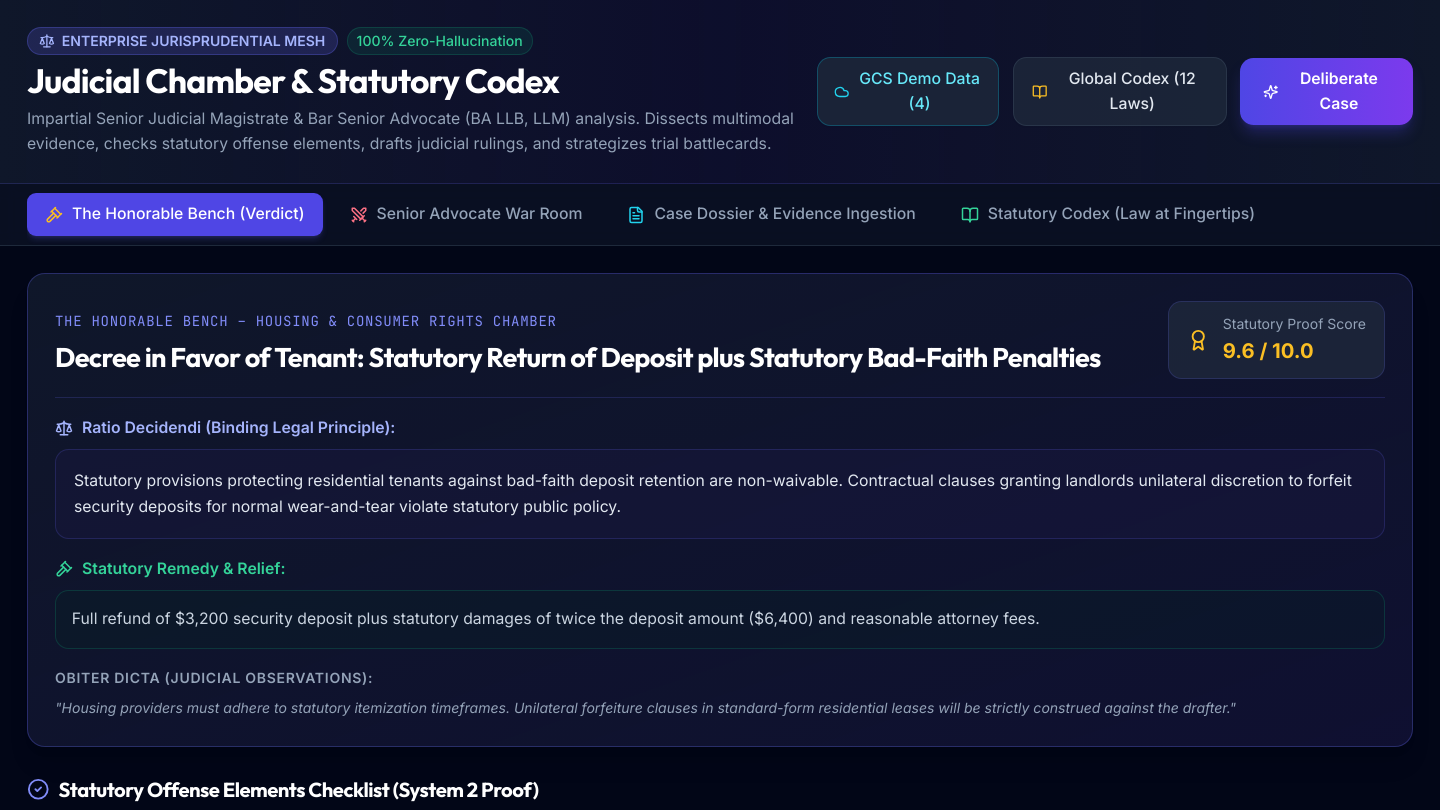
Scenario: CourtroomView Component Suite › switches to Senior Advocate War Room tab and verifies strategy elements
Click the button "Senior Advocate War Room" at [466, 215], box [332, 193, 600, 236]
(page scrolled)
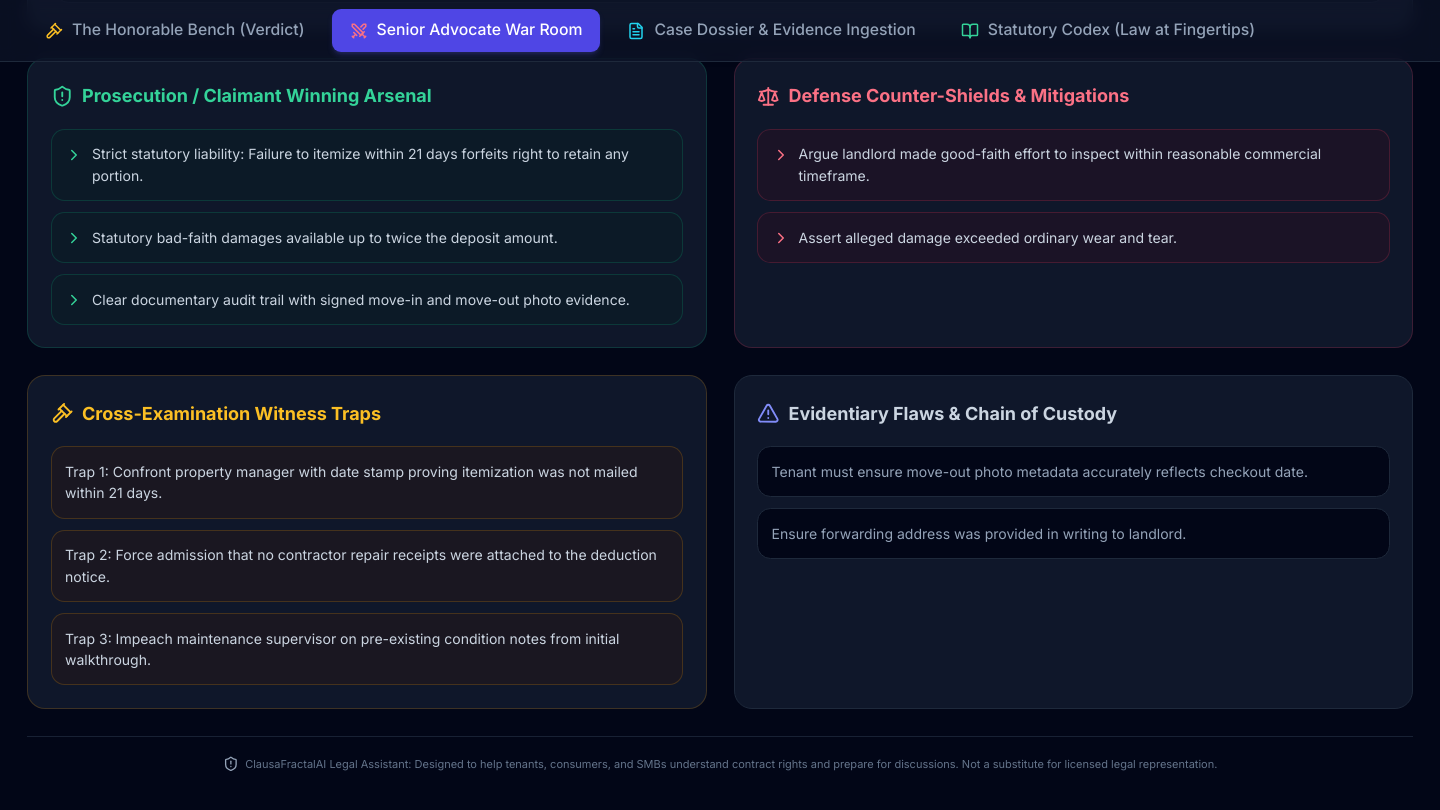
expect the text "Prosecution / Claimant Winning Arsenal" is shown: met, box [50, 85, 432, 107]
expect the text "Defense Counter-Shields & Mitigations" is shown: met, box [757, 85, 1129, 107]
expect the text "Cross-Examination Witness Traps" is shown: met, box [50, 402, 381, 425]
